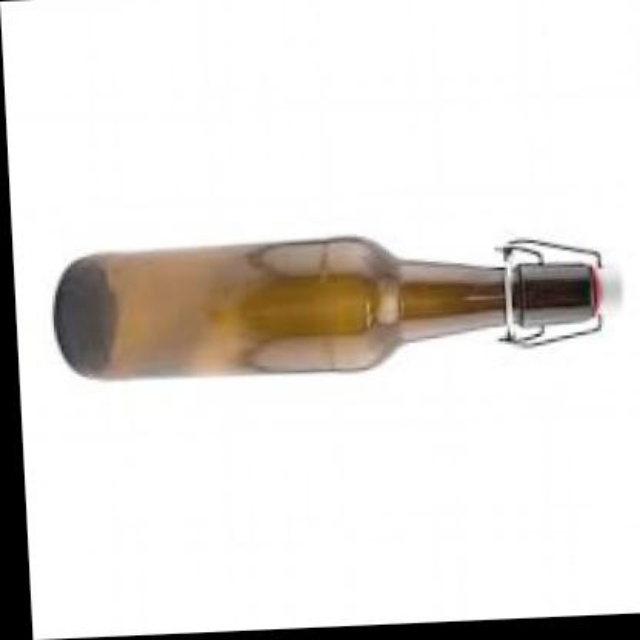trash: (54, 237, 600, 377)
